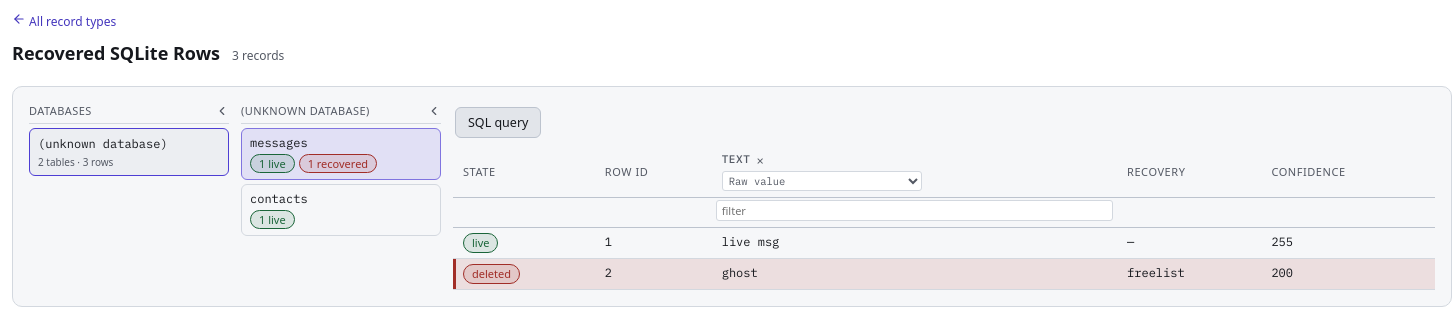
Test: SqliteViewer › lists tables, highlights deleted rows, and switches tables
Check: the text "live msg" is shown, box [712,228,1117,259]
Check: the text "ghost" is shown, box [712,259,1117,290]
Note: Switch to contacts: its row shows, the messages row does not.
Click the button with test id "an-db-table" showing "contacts 1 live": (341, 210) [241,184,441,236]
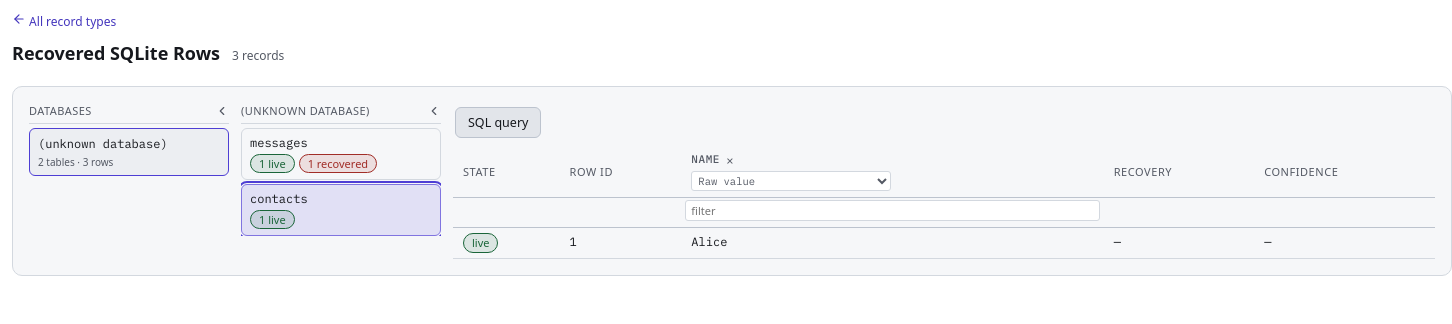
Check: the text "Alice" is shown, box [681,228,1104,259]
Check: the text "ghost" is gone
